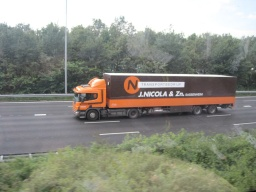truck: (69, 68, 237, 120)
